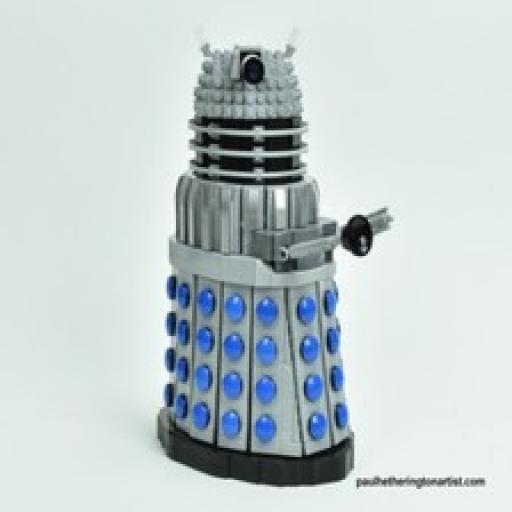dalek: (138, 32, 404, 486)
